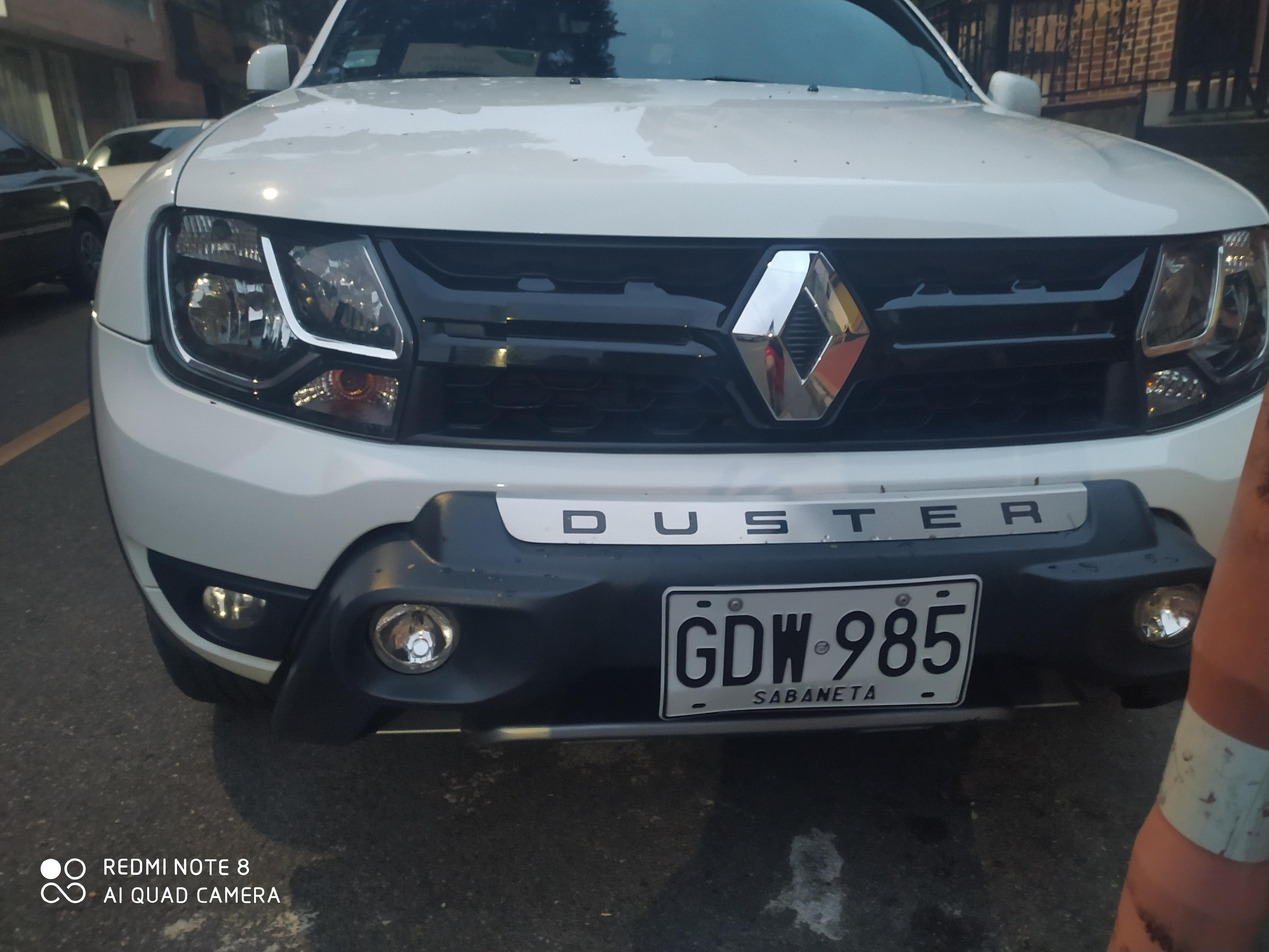placa: (644, 571, 990, 724)
